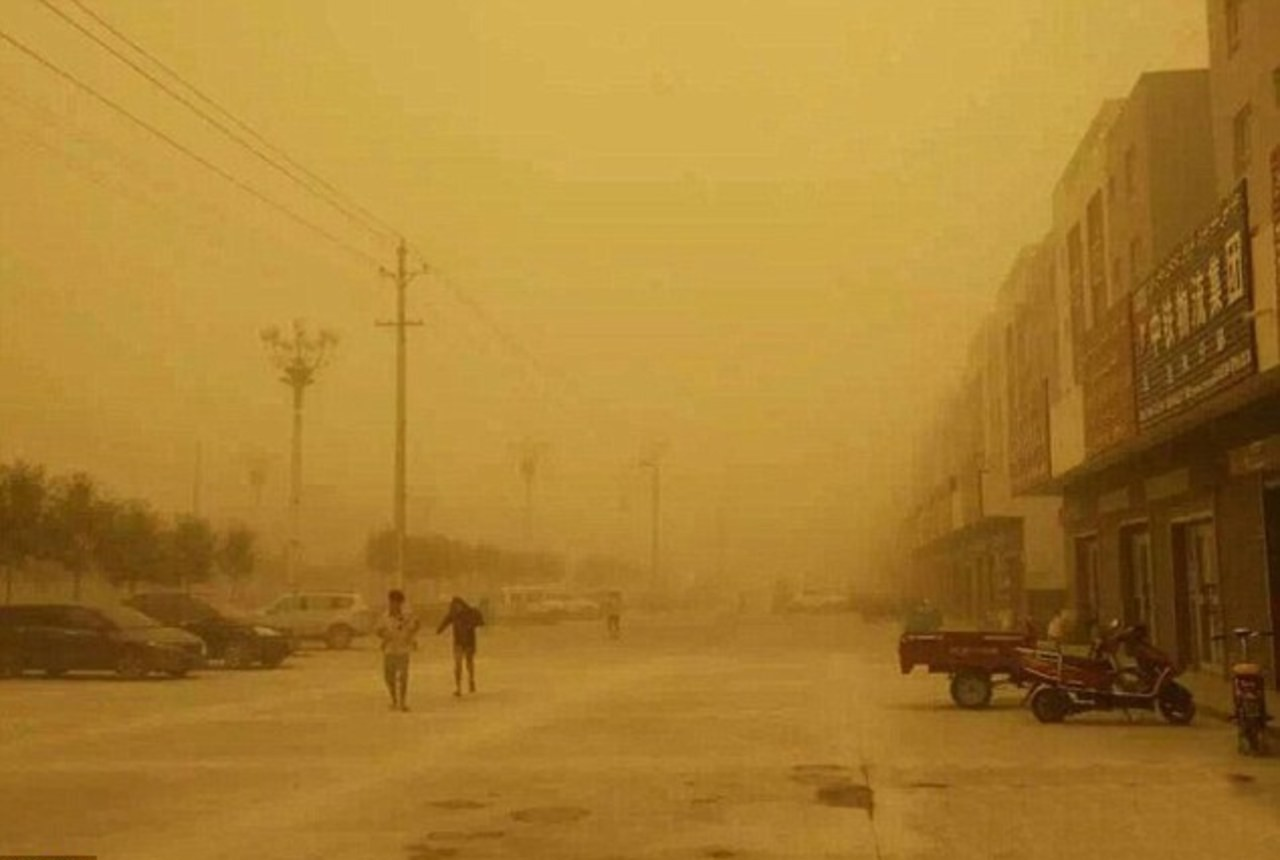bicycle: (1209, 622, 1269, 751)
car: (0, 602, 203, 680), (135, 592, 294, 669), (256, 592, 370, 650), (793, 579, 850, 615), (511, 585, 565, 621)
motorcycle: (1025, 625, 1198, 727)
person: (372, 586, 420, 711), (435, 594, 484, 697)
